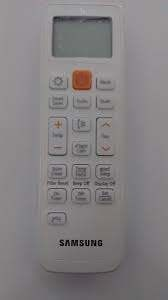remote control: (44, 6, 122, 277)
